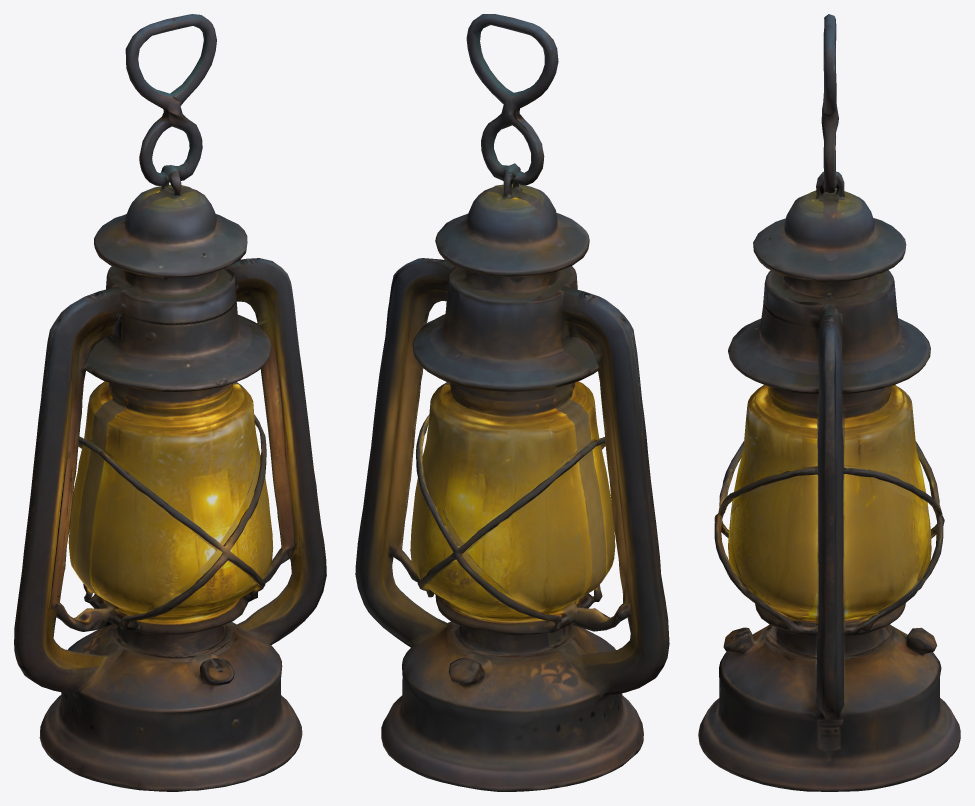
The model's file is lanterne.glb.
3 renders of one model, left to right at view 1: azimuth 30°, elevation 25°; view 2: azimuth 150°, elevation 25°; view 3: azimuth 270°, elevation 25°, orthographic.
Bounding box in the file's own units: 0.902 × 2 × 0.668.
Materials: 1 (1 with a texture image).
